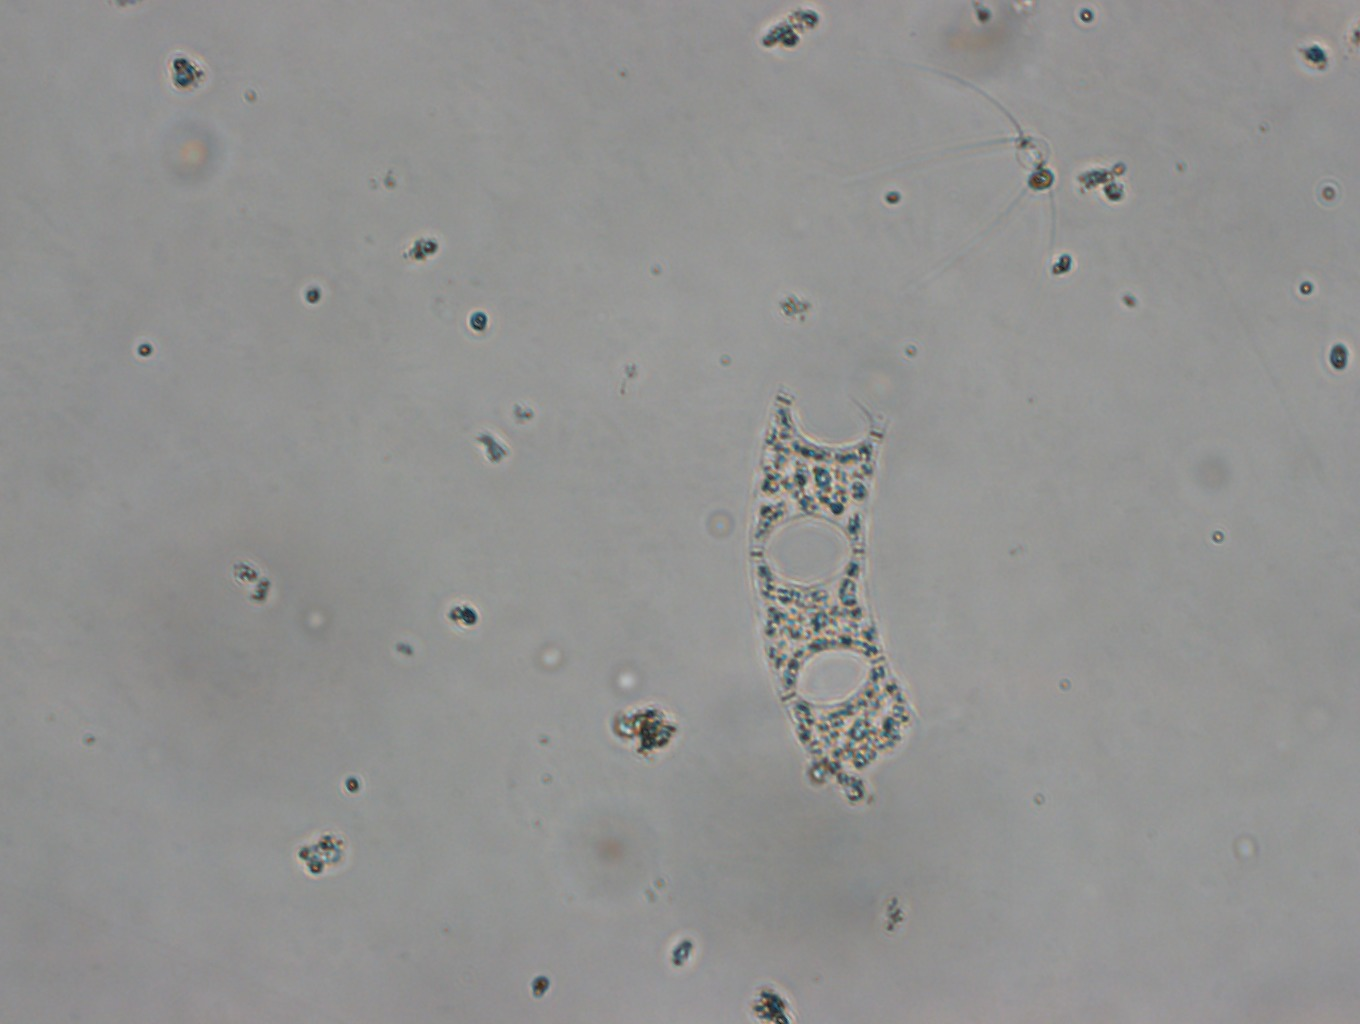eucampia: (734, 384, 932, 817)
